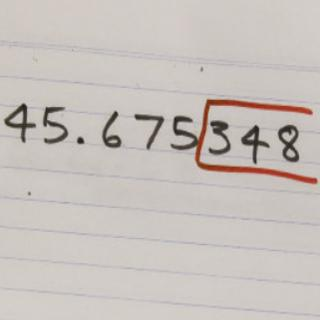.: (74, 133, 87, 144)
3: (207, 115, 233, 158)
4: (2, 97, 36, 144), (239, 126, 271, 165)
5: (37, 102, 69, 148), (170, 109, 199, 155)
6: (102, 109, 125, 149)
7: (130, 109, 168, 150)
8: (276, 125, 302, 161)
